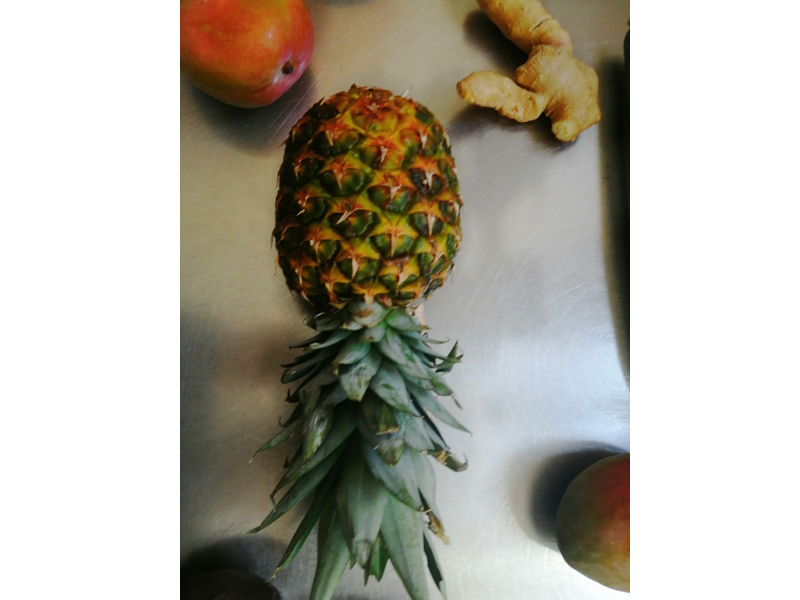ginger: (457, 13, 606, 144)
pineapple: (279, 89, 467, 571)
